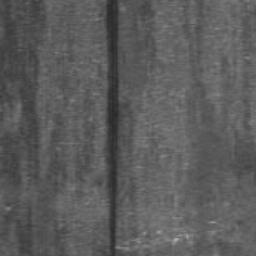Scratches: (106, 0, 119, 256)
